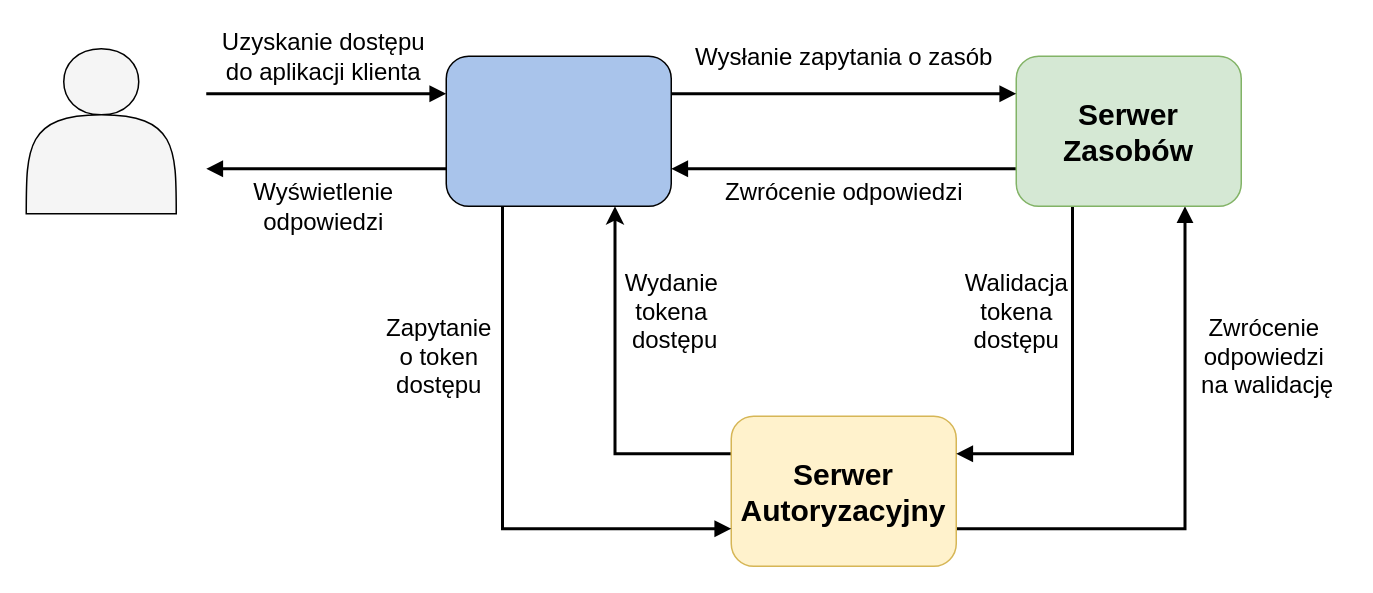
The diagram is 1373 pixels wide and 593 high, and some of its shapes have lost their labels. Here are the shapes that lost their labels. From the top down, the centre of each, then its label:
At point 100,130: "Użytkownik".
At point 558,130: "Klient".
